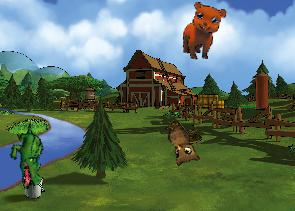bear: (181, 1, 227, 62)
crocodile: (0, 122, 57, 191)
owl: (153, 118, 204, 172)
